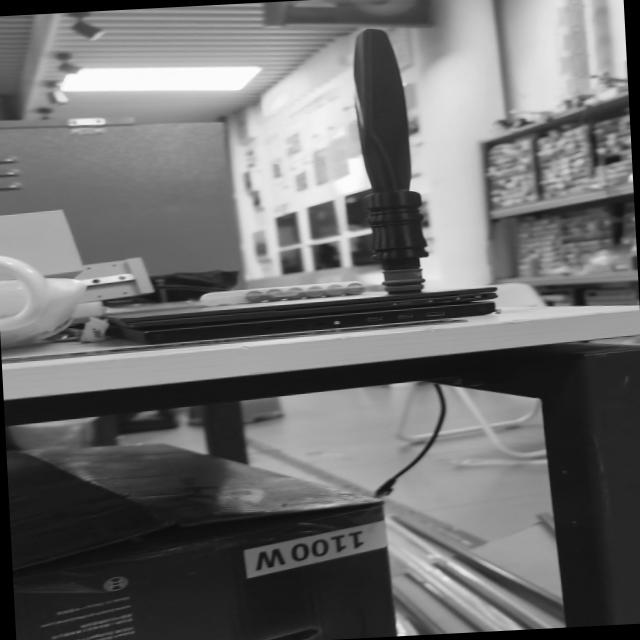base: (372, 264, 434, 300)
